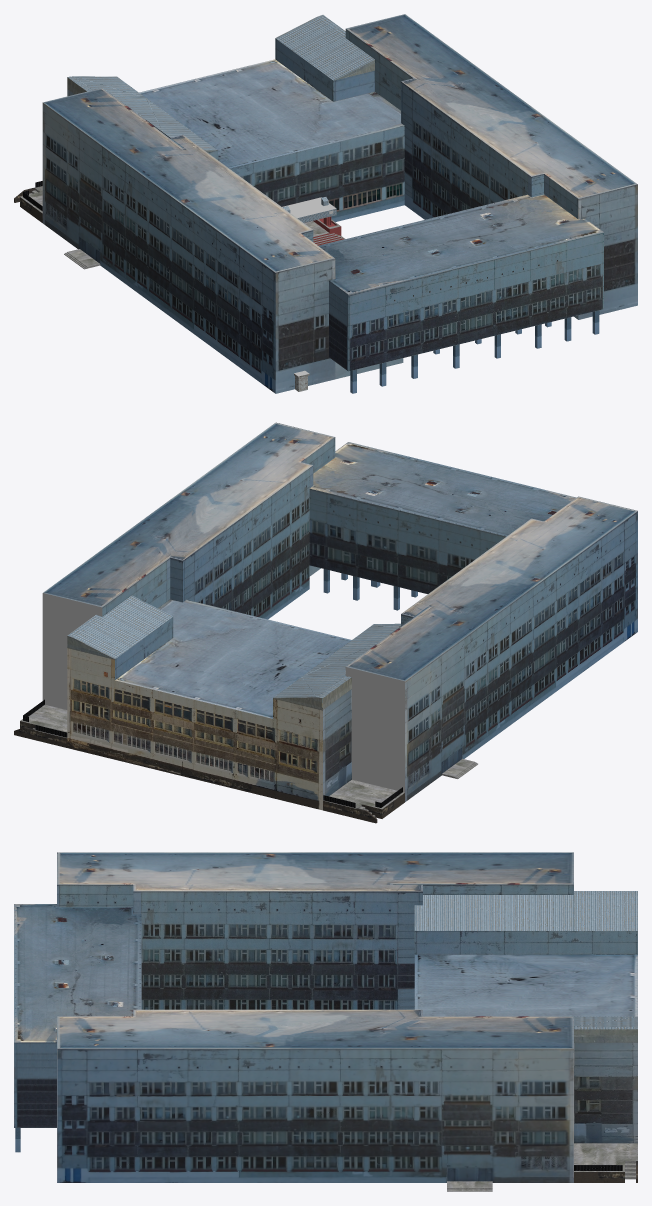
File: school26.fbx
3 renders of one model, top to bottom at view 1: azimuth 30°, elevation 25°; view 2: azimuth 150°, elevation 25°; view 3: azimuth 270°, elevation 25°, orthographic. The views are drawn at different scales.
Parts seen in each view (by area): view 1: cover5, left_right_side, side9, cover6, cover3, sideinside, side6, mainfasad, cover7, side11, side_6_1, stolbs (+2 smaller); view 2: cover5, left_right_side, sideback, cover6, sideinside, cover3, sideinside2, sideback2, cover7, stair2, side5, side11 (+1 smaller); view 3: left_right_side, cover5, sideinside, cover3, cover6, cover7, side5, side11, side_6_1, stair2, stair.
Part boxes in pixels (box(x1,y1,x2,y2)): cover5: box(43, 14, 637, 272); left_right_side: box(42, 102, 637, 393); side9: box(348, 232, 603, 371); cover6: box(139, 59, 404, 168); cover3: box(318, 194, 603, 294); sideinside: box(145, 29, 578, 272); side6: box(275, 184, 637, 393); mainfasad: box(230, 126, 404, 222); cover7: box(67, 15, 374, 152); side11: box(208, 38, 400, 159); side_6_1: box(329, 281, 348, 370); stolbs: box(350, 310, 599, 393); cover5: box(43, 422, 637, 681); left_right_side: box(405, 511, 637, 801); sideback: box(67, 647, 322, 810); cover6: box(115, 599, 351, 718); sideinside: box(102, 437, 427, 635); cover3: box(310, 442, 576, 536); sideinside2: box(309, 488, 505, 593); sideback2: box(42, 593, 404, 792); cover7: box(67, 595, 400, 709); stair2: box(14, 699, 404, 823); side5: box(323, 689, 351, 800); side11: box(115, 578, 382, 679); left_right_side: box(57, 852, 573, 1182); cover5: box(57, 852, 573, 1048); sideinside: box(57, 884, 573, 1038); cover3: box(14, 904, 141, 1042); cover6: box(414, 954, 637, 1016); cover7: box(414, 891, 637, 1042); side5: box(574, 1042, 637, 1143); side11: box(414, 921, 637, 954); side_6_1: box(14, 904, 56, 1127); stair2: box(574, 1143, 637, 1182); stair: box(447, 1181, 492, 1191).
Bounding box in the file's own units: 5904 × 1739 × 7295.
